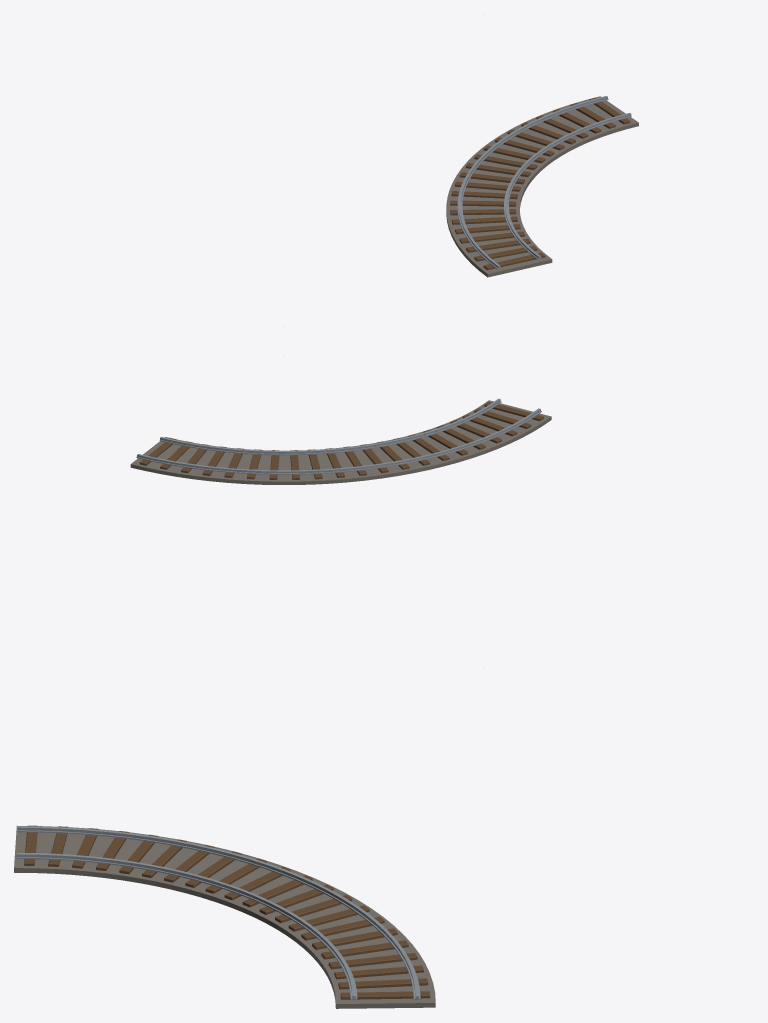
Rendered from rail_virage_tres_large.glb.
The picture shows the model from 3 angles, top to bottom: view 1: azimuth 30°, elevation 25°; view 2: azimuth 150°, elevation 25°; view 3: azimuth 270°, elevation 25°; orthographic projection. The views are drawn at different scales.
Parts seen in each view (by area): view 1: rail_ballast.016, rail_traverse.018, rail_rail.018; view 2: rail_ballast.016, rail_traverse.018, rail_rail.018; view 3: rail_ballast.016, rail_traverse.018, rail_rail.018.
Part boxes in pixels (x1,y1,x2,y2): rail_ballast.016: (446,96,638,277); rail_traverse.018: (450,97,630,270); rail_rail.018: (457,96,631,269); rail_ballast.016: (130,400,551,484); rail_traverse.018: (139,402,543,479); rail_rail.018: (136,398,541,474); rail_ballast.016: (14,826,435,1008); rail_traverse.018: (24,825,430,999); rail_rail.018: (16,826,420,999).
Bounding box in the file's own units: 7.03 × 0.12 × 7.03.
